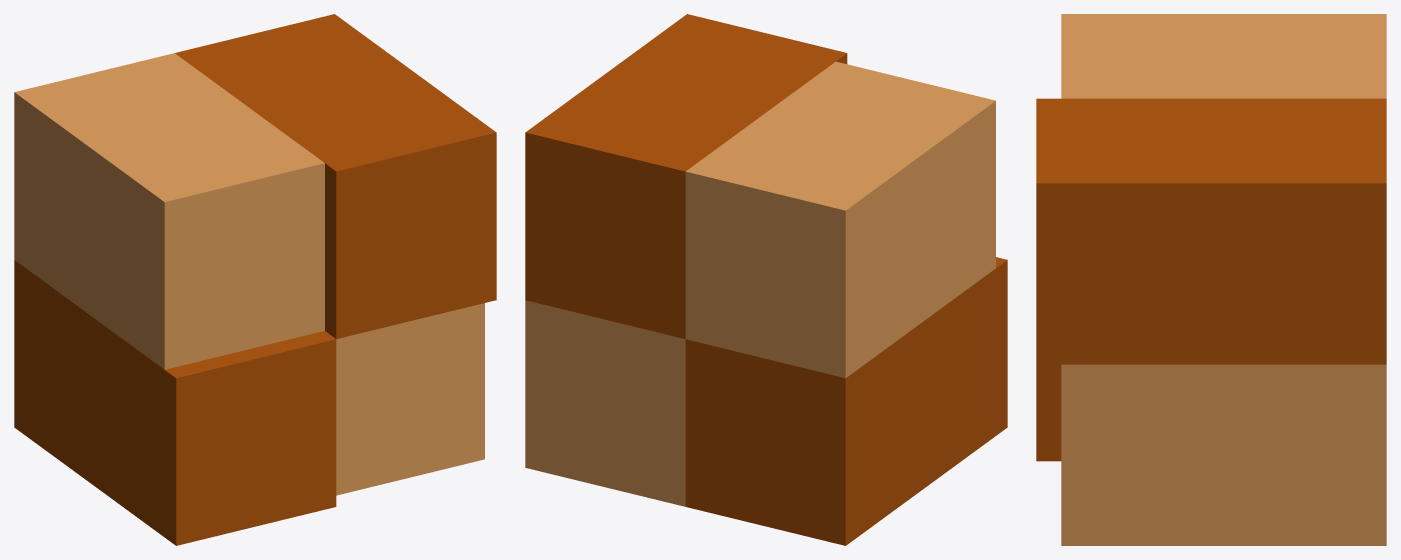
File: MiddleTile.glb
The picture shows the model from 3 angles, left to right: view 1: azimuth 30°, elevation 25°; view 2: azimuth 150°, elevation 25°; view 3: azimuth 270°, elevation 25°; orthographic projection. The views are drawn at different scales.
Visible parts, largest first — view 1: generated(Clone); view 2: generated(Clone); view 3: generated(Clone).
Part boxes in pixels (<box>): generated(Clone): <box>14,14,496,545</box>; generated(Clone): <box>525,14,1007,545</box>; generated(Clone): <box>1036,14,1386,545</box>.
Bounding box in the file's own units: 32 × 32 × 28.
1 material, 1 textured.
